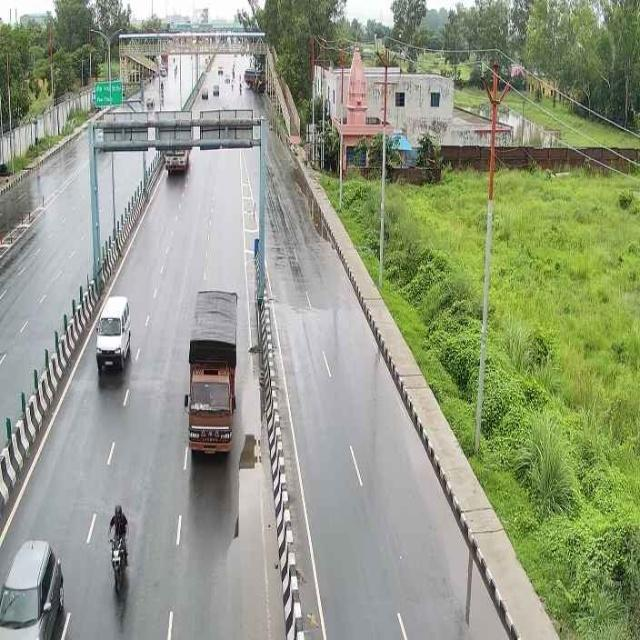car: (1, 532, 68, 638), (91, 289, 136, 382)
